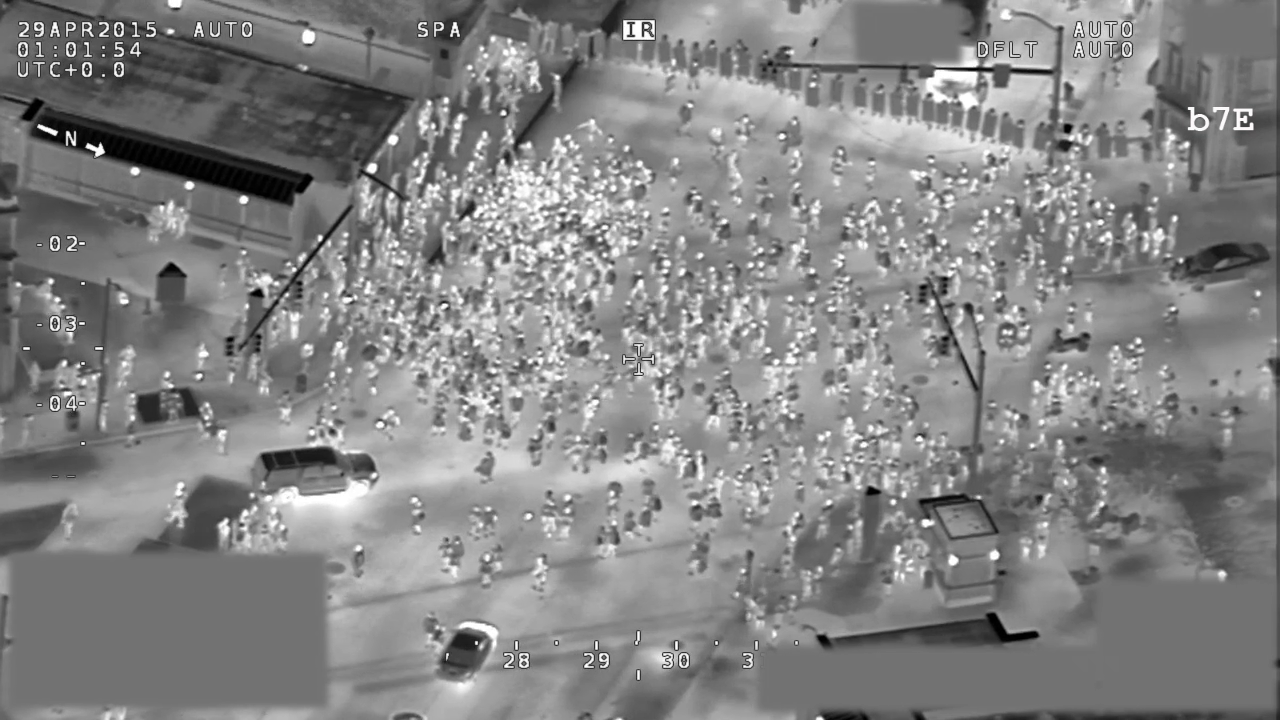vehicle: (244, 444, 383, 501), (1164, 236, 1275, 300), (429, 612, 504, 690)
